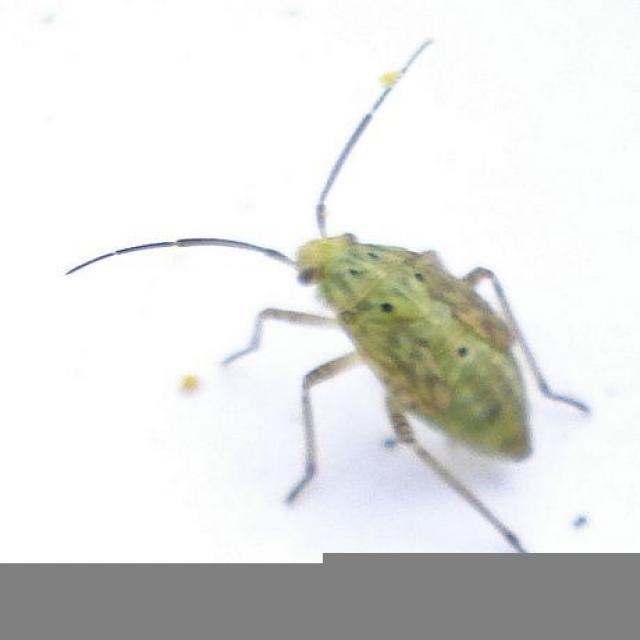Miridae-Adult-: (100, 39, 586, 533)
